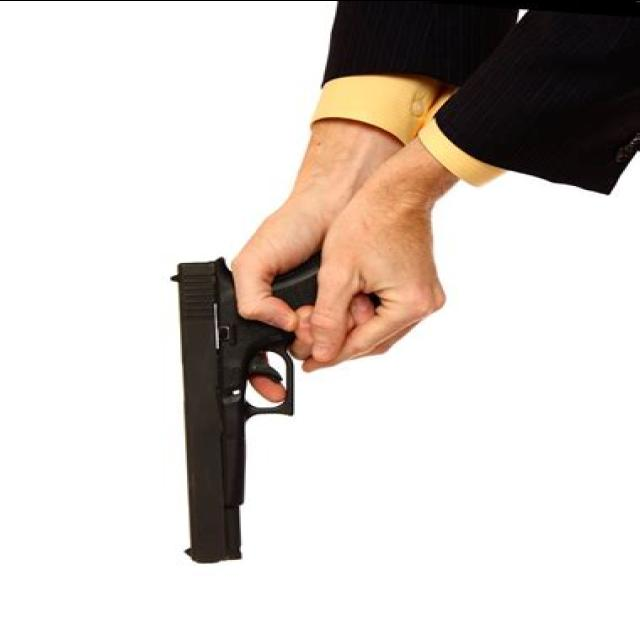weapons: (156, 230, 388, 576)
